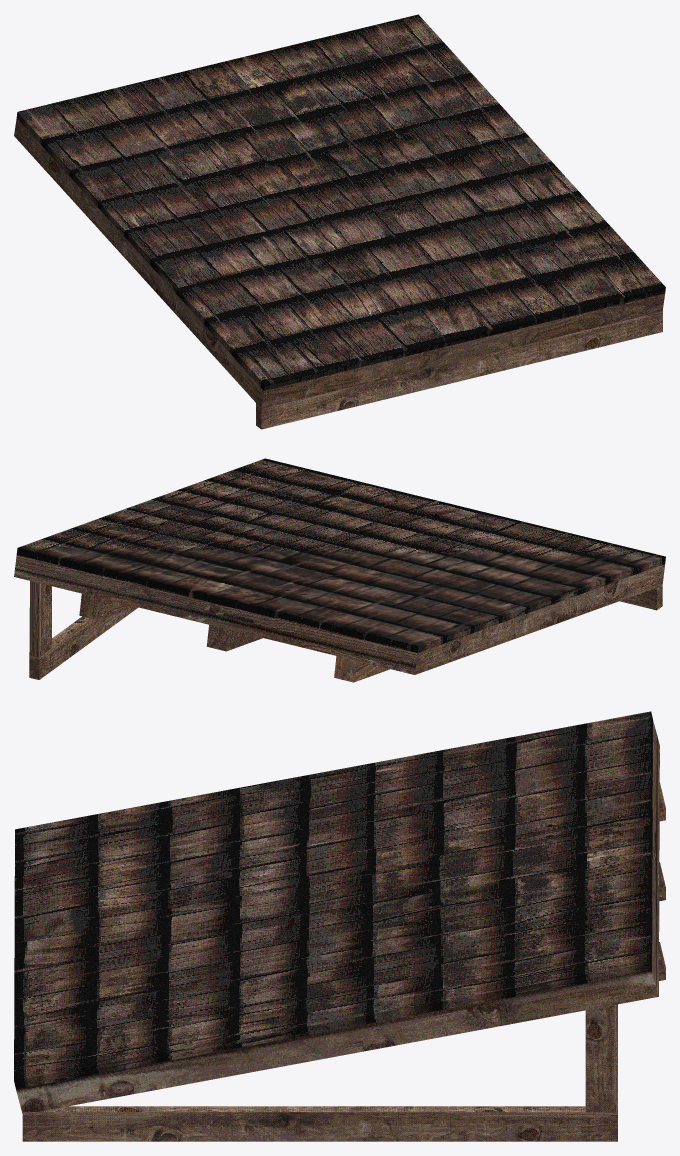
Rendered from porch-roofR.glb.
The picture shows the model from 3 angles, top to bottom: view 1: azimuth 30°, elevation 25°; view 2: azimuth 150°, elevation 25°; view 3: azimuth 270°, elevation 25°; orthographic projection. The views are drawn at different scales.
Parts seen in each view (by area): view 1: porch-roofR.001; view 2: porch-roofR.001; view 3: porch-roofR.001.
Boxes of the visible parts, x1,y1,x2,y2 form: porch-roofR.001: (14,14,665,429); porch-roofR.001: (14,458,665,682); porch-roofR.001: (14,711,665,1141).
Bounding box in the file's own units: 2.05 × 0.6786 × 2.25.
2 materials, 2 textured.
